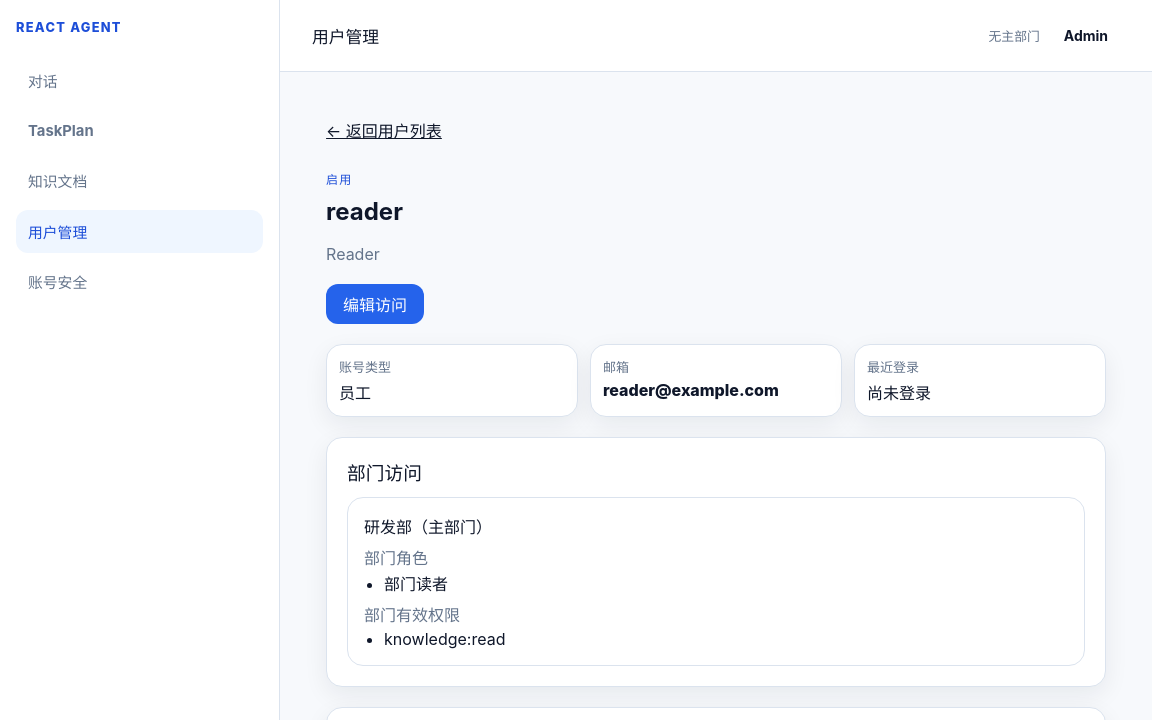
Test case: User Management access editor › requires a second account-type confirmation and puts the complete snapshot
Click the button "编辑访问" at [375, 304], box [326,284,424,324]
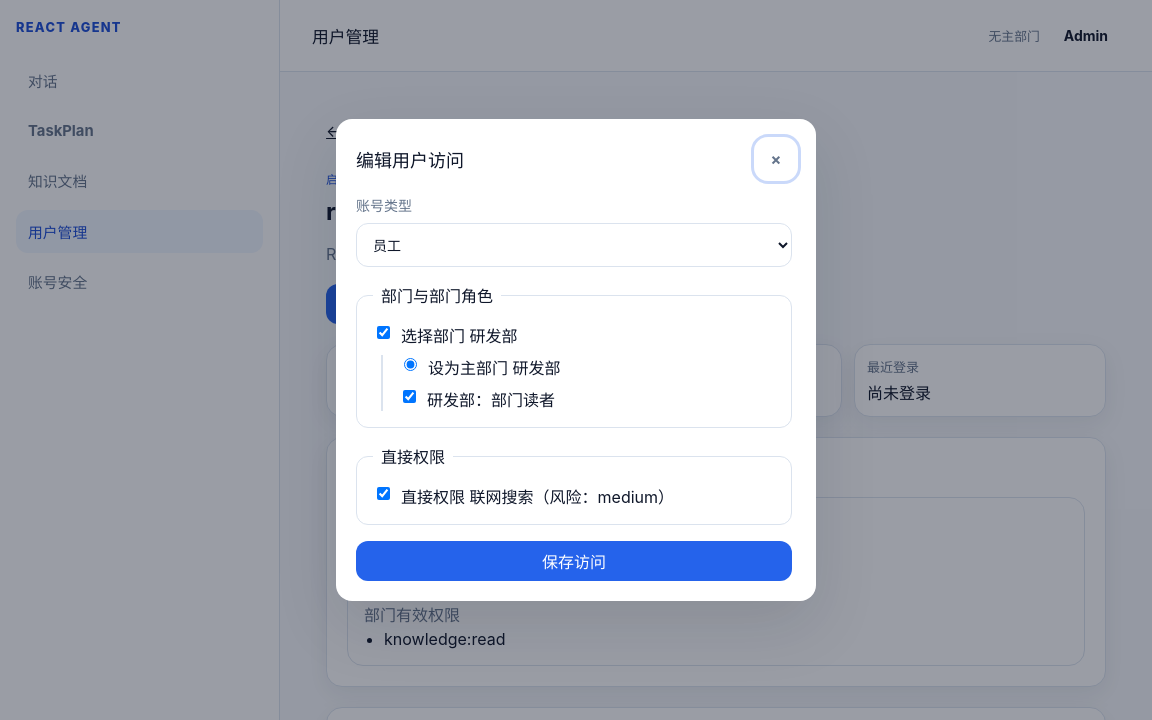
Expected: the checkbox labelled "选择部门 研发部" is checked, [377,326,390,339]
Expected: the checkbox labelled "研发部：部门读者" is checked, [403,390,416,403]
Select "部门主管" in the dropdown labelled "账号类型" at [574, 245], box [356,223,792,267]
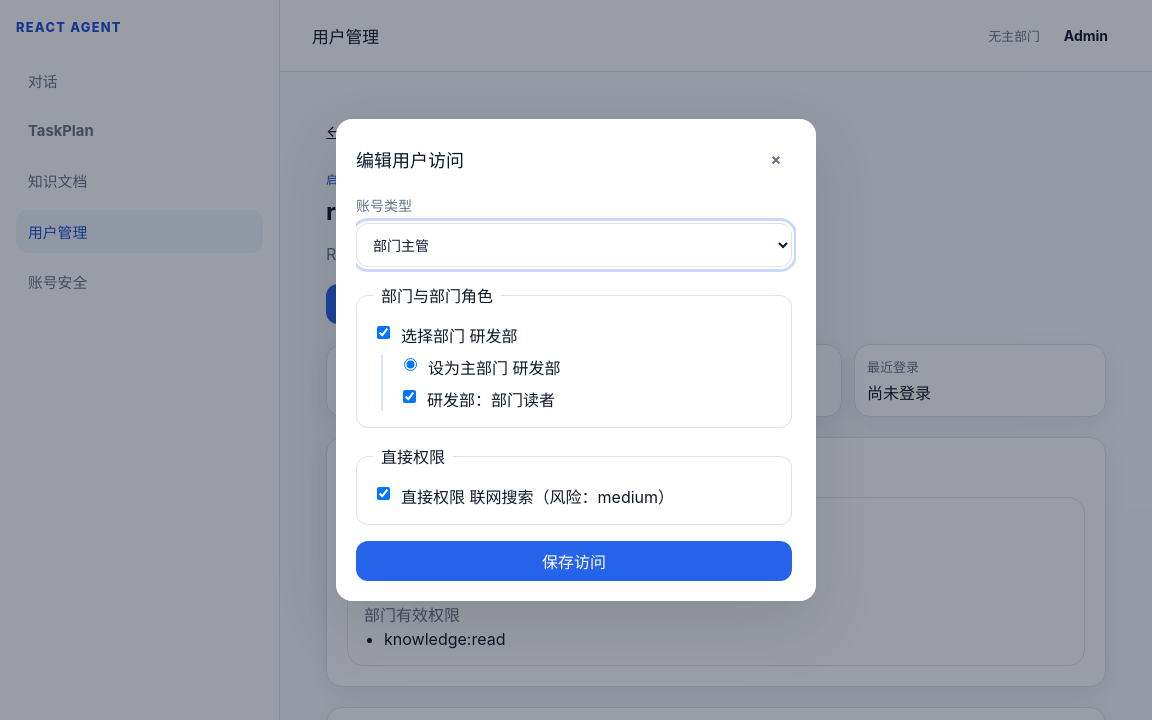
Click the checkbox labelled "直接权限 联网搜索" at [384, 494], box [377,487,390,500]
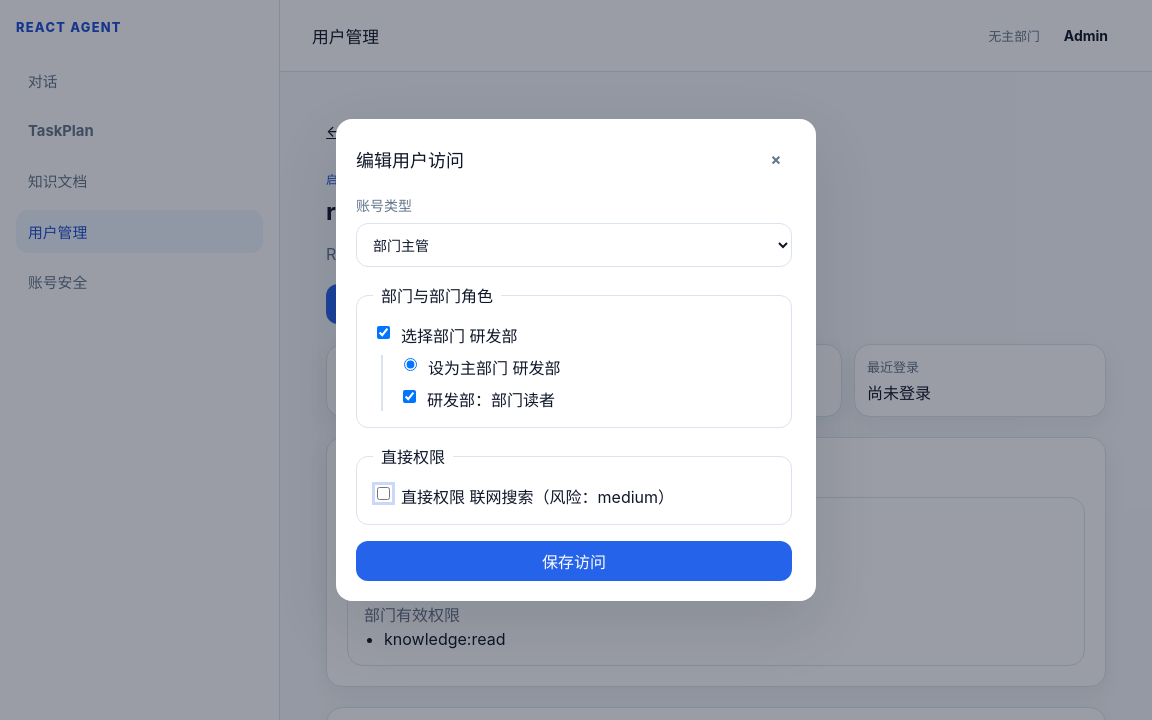
Click the button "保存访问" at [574, 561], box [356,541,792,581]
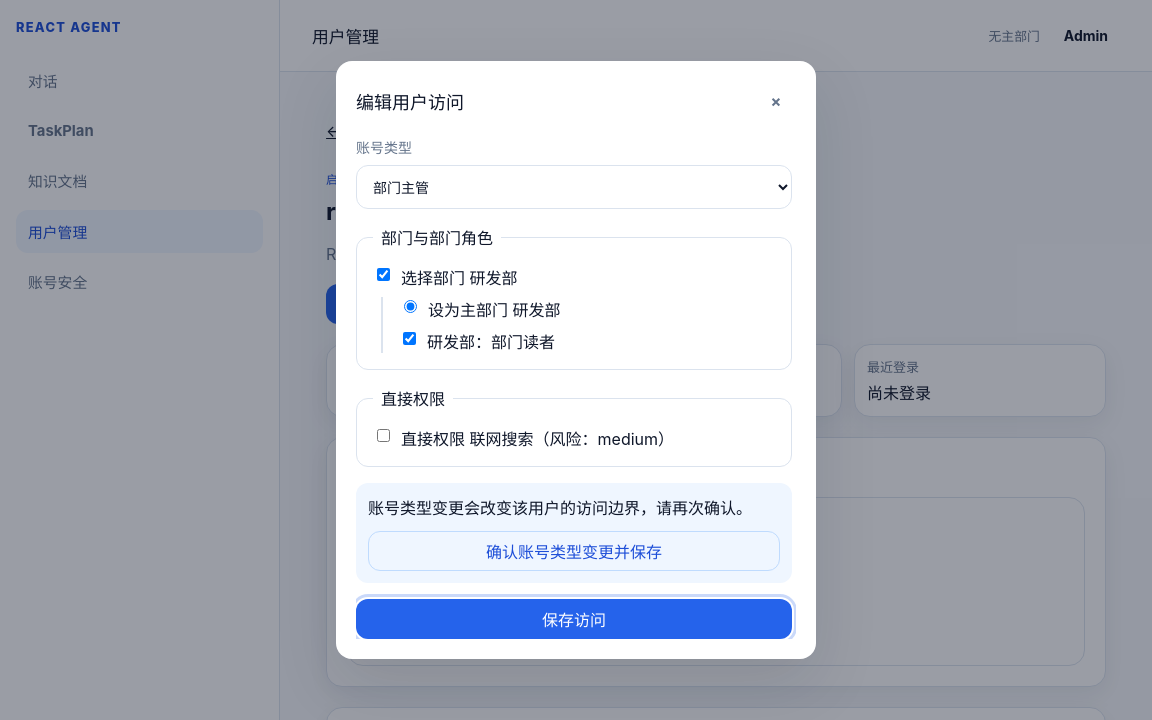
Click the button "确认账号类型变更并保存" at [574, 551], box [368,531,780,571]
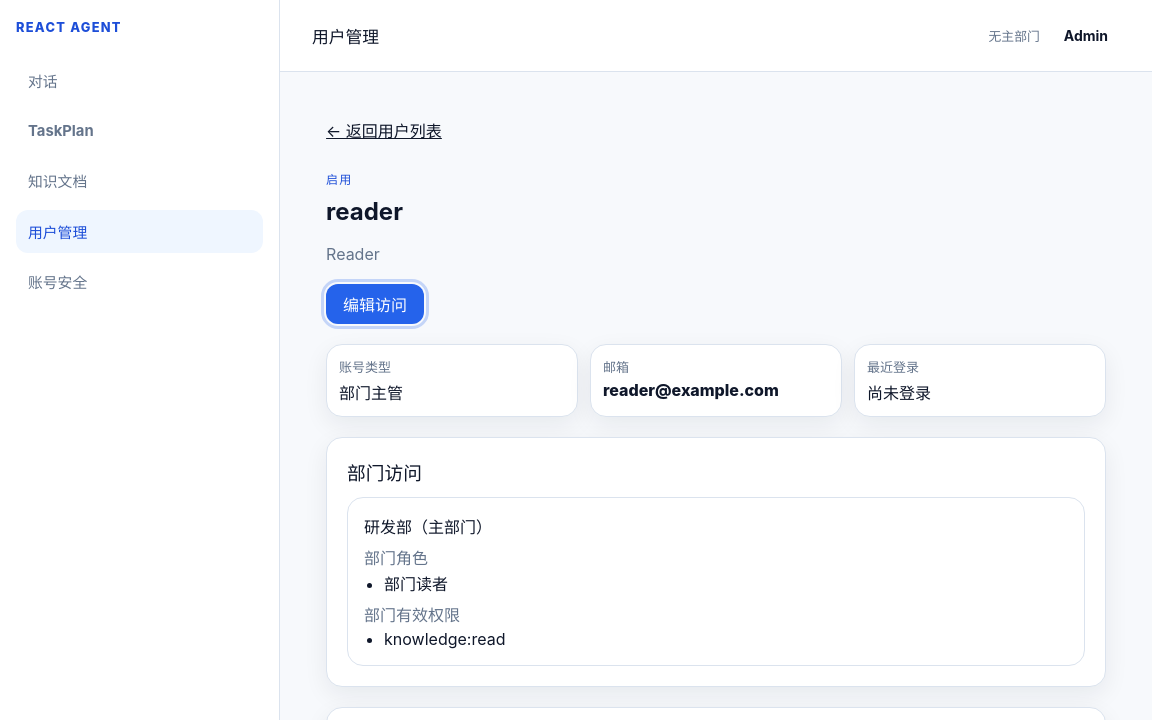
Expected: the heading "reader" is shown, [326,197,403,226]
Expected: the heading "编辑用户访问" is gone
Expected: the text "部门主管" is shown, [339,383,403,403]
